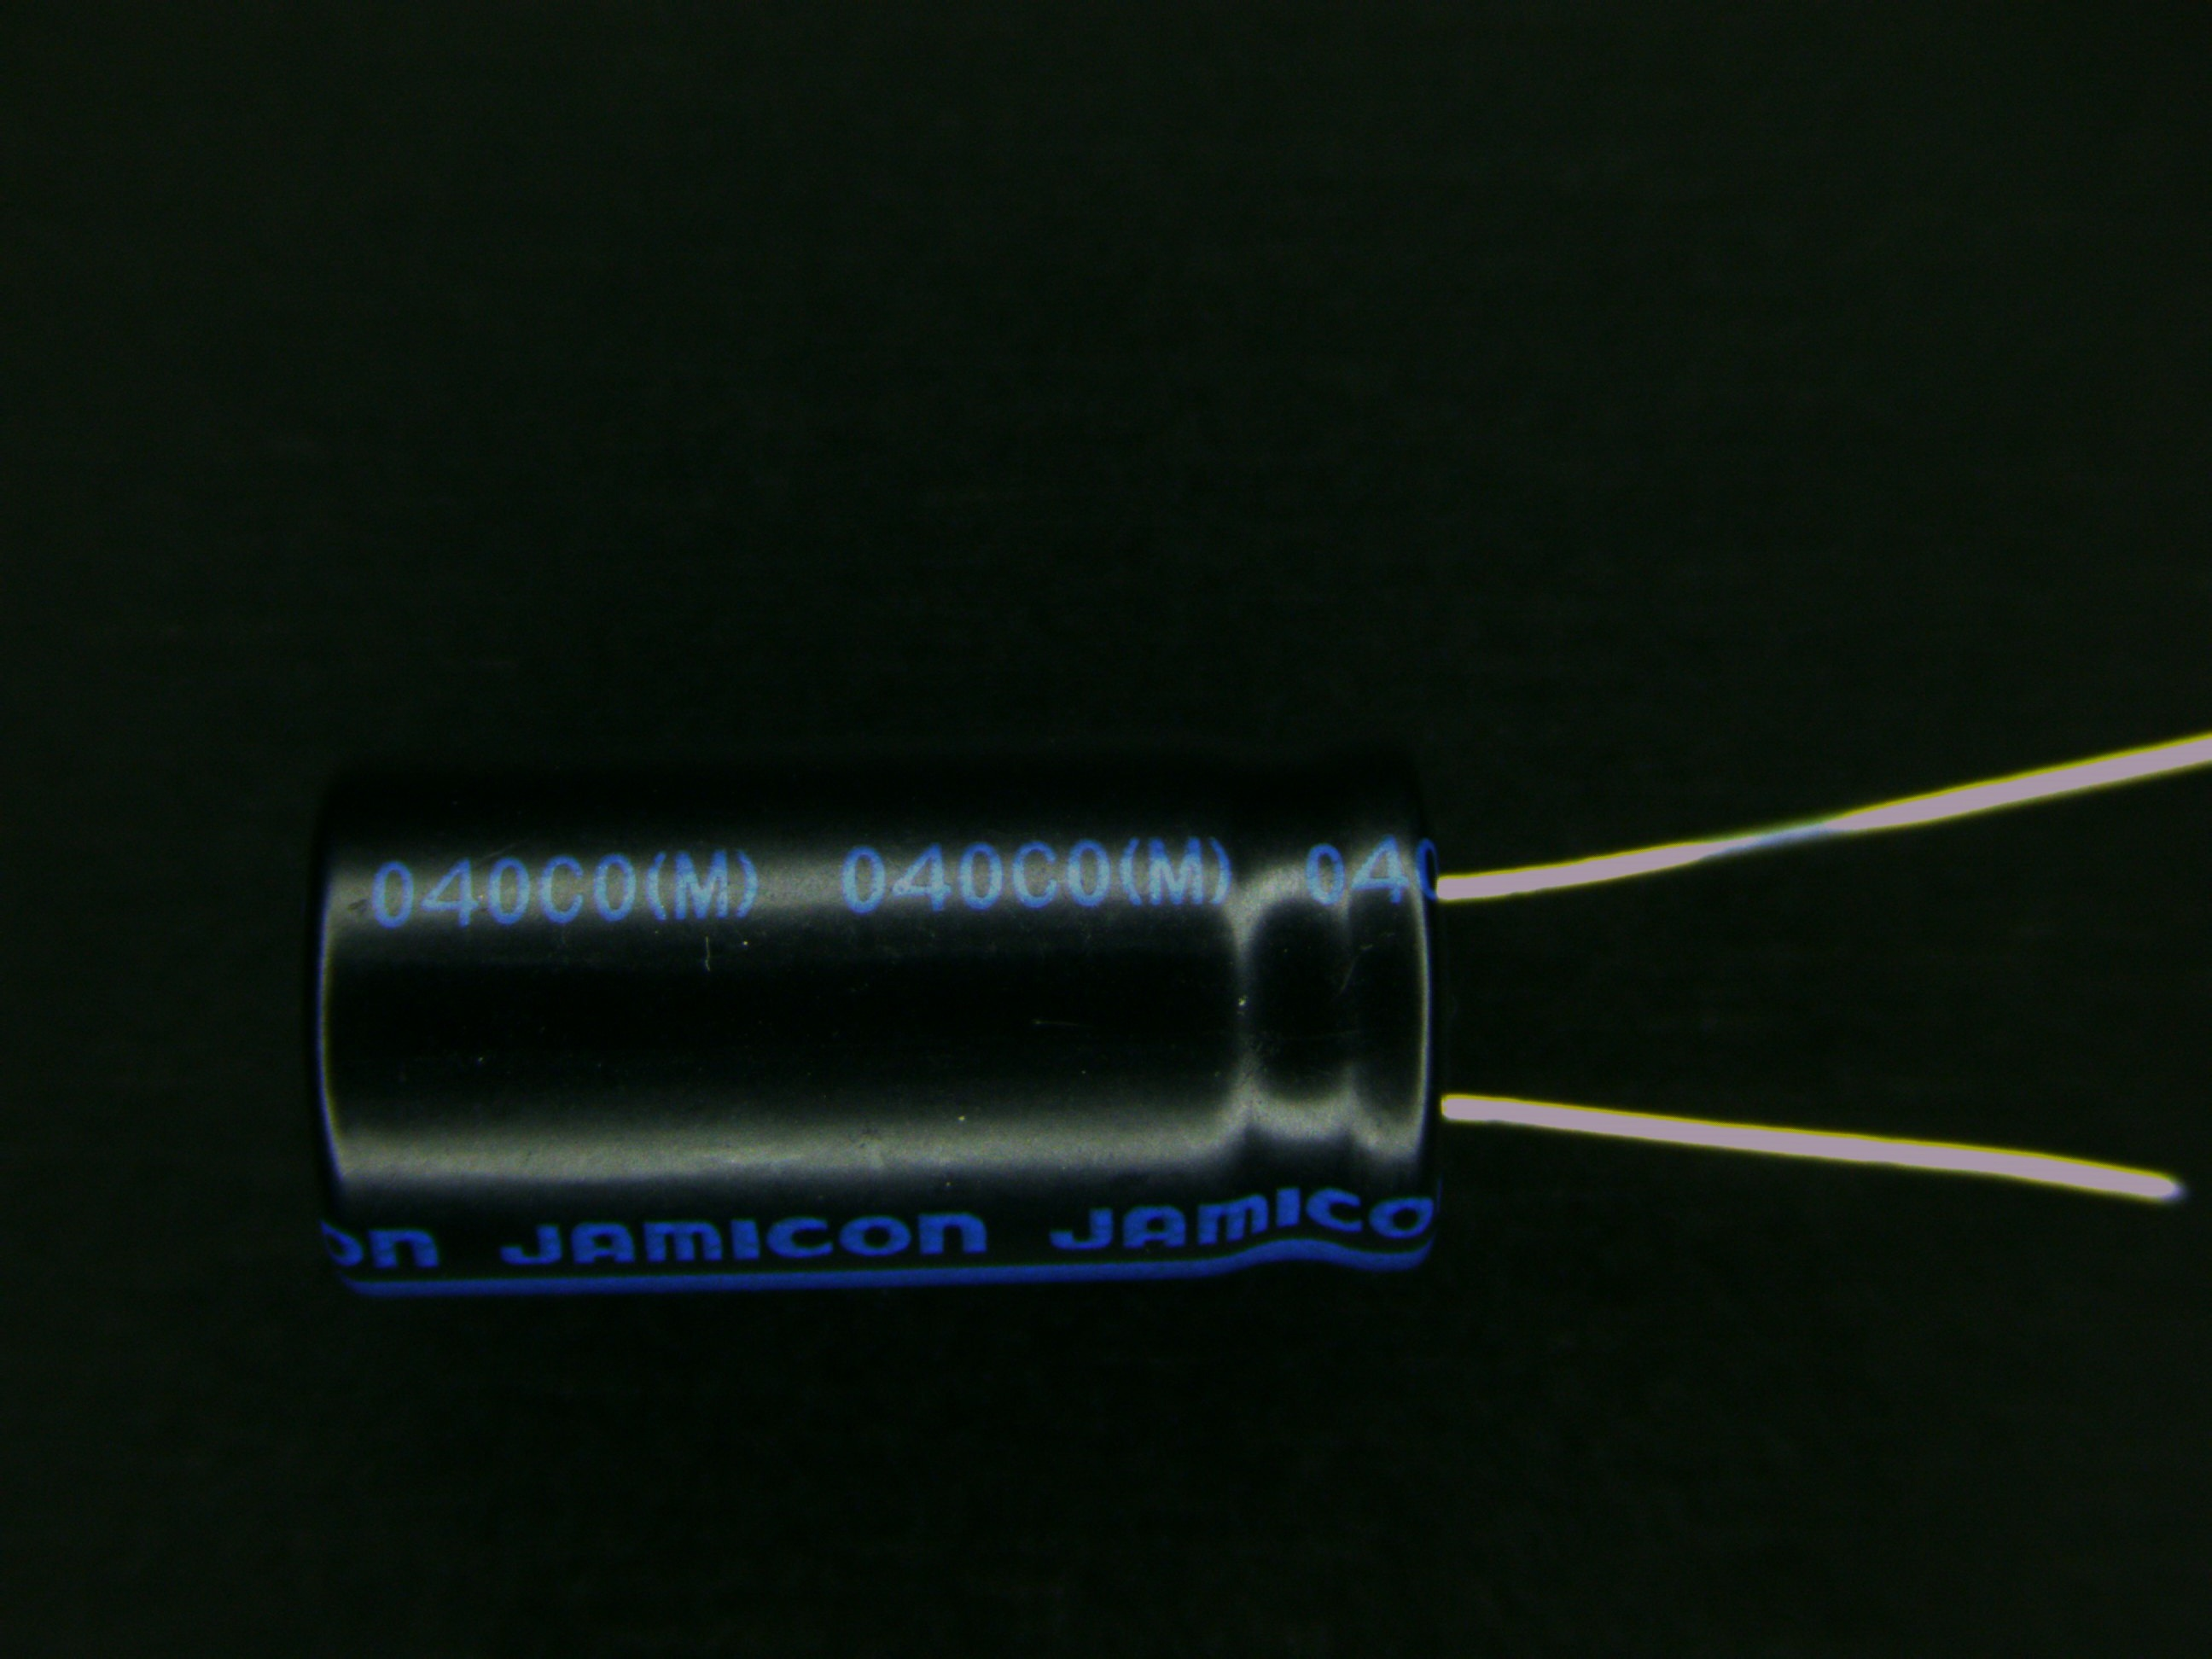c2: (300, 774, 1594, 1300)
